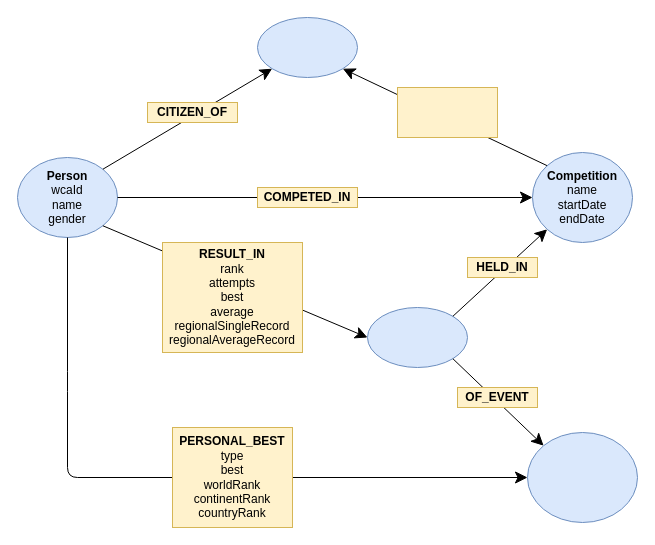
This 655x545 diagram has some shape labels left out. The centre of each missing label's shape, as x and y in pixels:
Country iso2 name: (307,47)
Event wcaId name attemptFormat: (582,477)
ORGANIZED_IN cityName location: (447,112)
Round roundNumber isFinal: (417,337)
